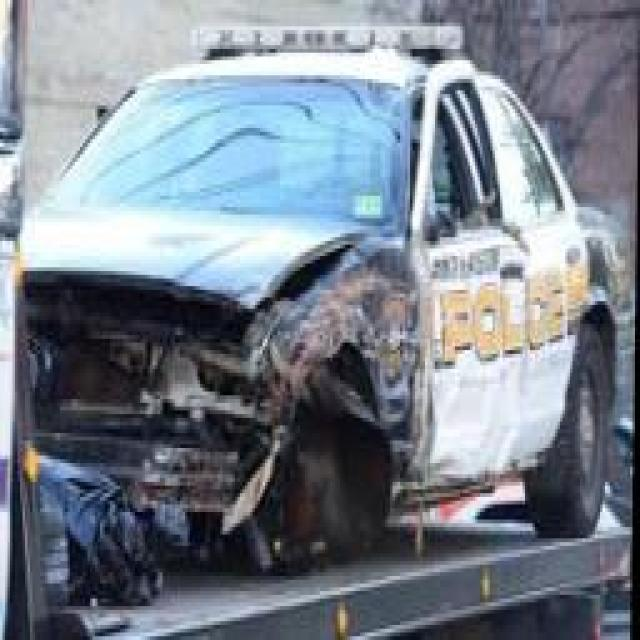Bumper: (22, 418, 259, 561)
Door: (408, 102, 504, 474)
Fender: (270, 275, 417, 437)
Light: (172, 324, 266, 425)
